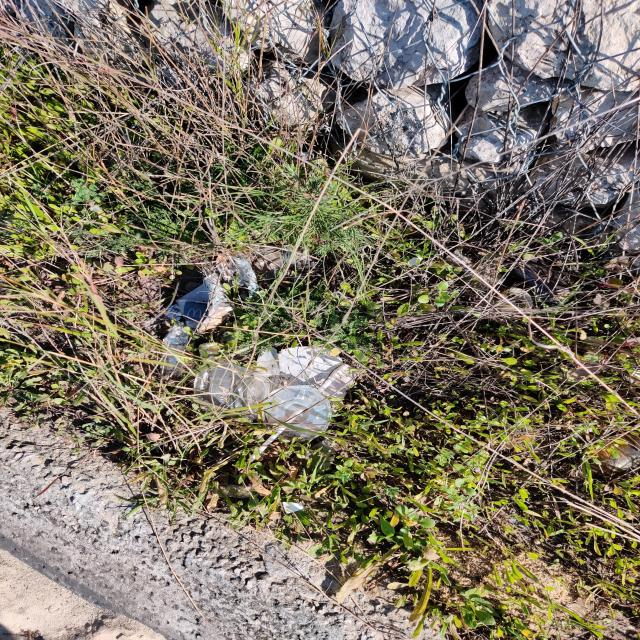litter: (192, 353, 273, 423), (260, 385, 339, 442), (281, 500, 305, 518)
